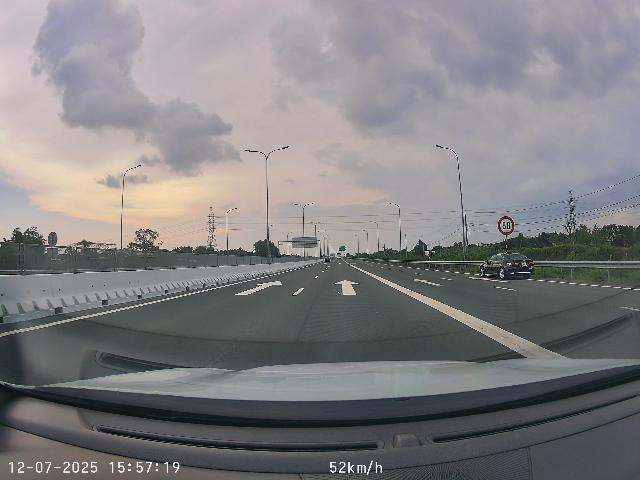127-toc-do-toi-da-50: (497, 216, 515, 235)
